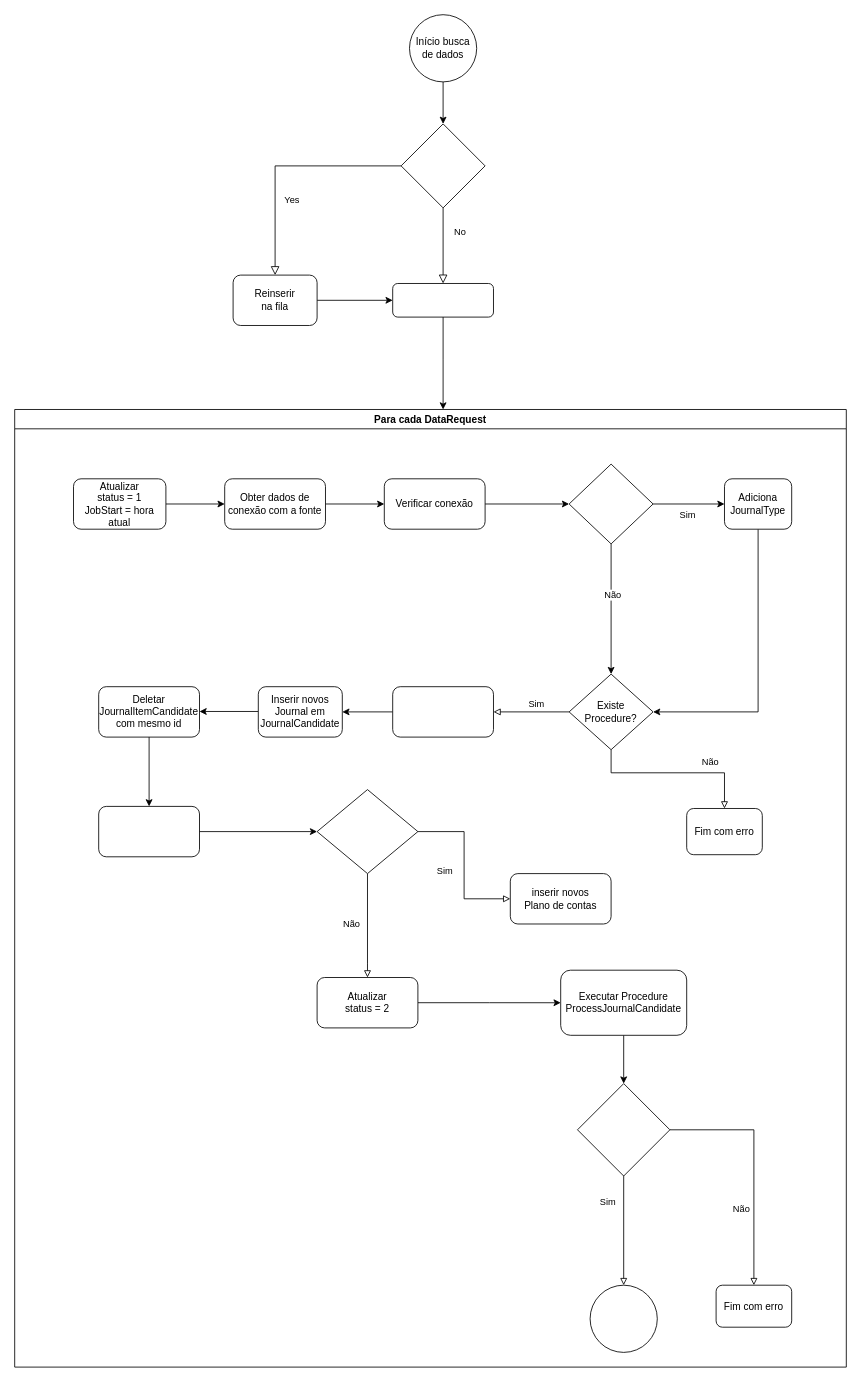
The diagram is 861 pixels wide and 1382 high, and some of its shapes have lost their labels. The shapes that lost their labels are listed below. From the top down, each one's centre as x and y in pixels, then its label:
At point 442,165: "Existe DataRequest com erro ?".
At point 443,300: "Buscar DataRequest stastus = 0".
At point 610,503: "Existe novo JournalType?".
At point 443,711: "Deletar JournalCandidate com mesmo Id".
At point 149,831: "Inserir Journal Item em JournalItemCandidate".
At point 367,831: "Existe plano de contas faltando?".
At point 623,1129: "Executada com sucesso?".
At point 623,1318: "Fim".
